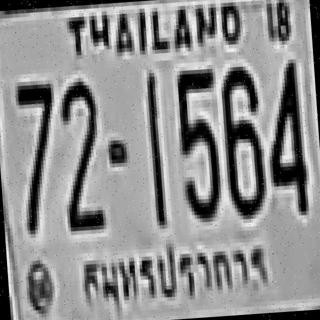N01: (142, 69, 166, 222), (142, 70, 165, 208)
N02: (56, 77, 105, 228), (58, 77, 102, 212)
N04: (262, 57, 306, 211)
N05: (174, 65, 220, 220)
N06: (217, 62, 266, 216)
N07: (14, 80, 60, 230), (15, 80, 57, 185)
P57: (76, 234, 274, 317)
